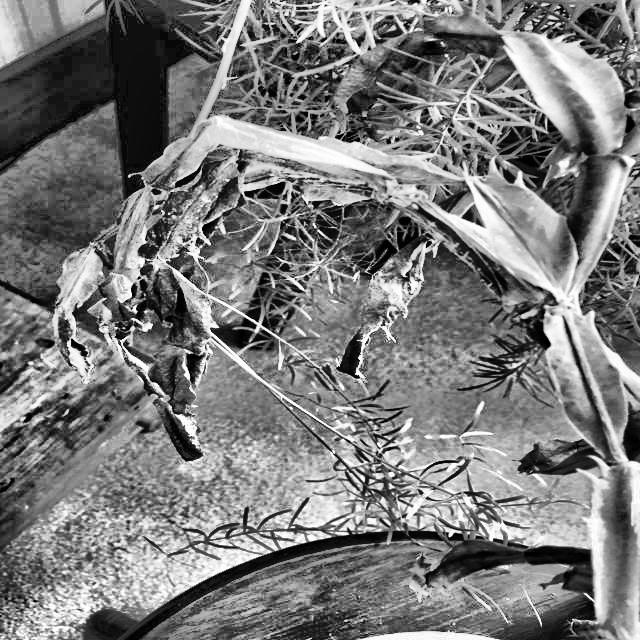plants: (49, 30, 639, 639), (48, 128, 272, 476)
